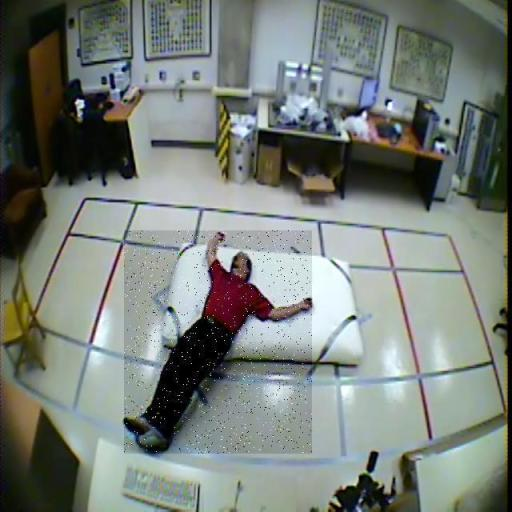Fall: (124, 231, 312, 454)
